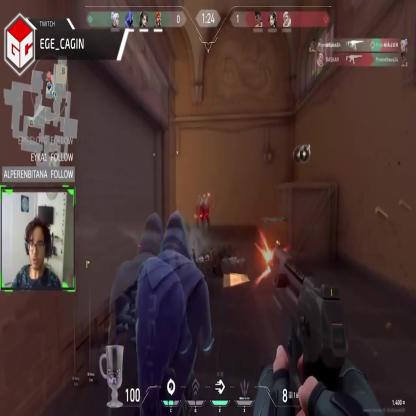enemy: (196, 192, 211, 235)
enemy_head: (203, 194, 206, 202)
